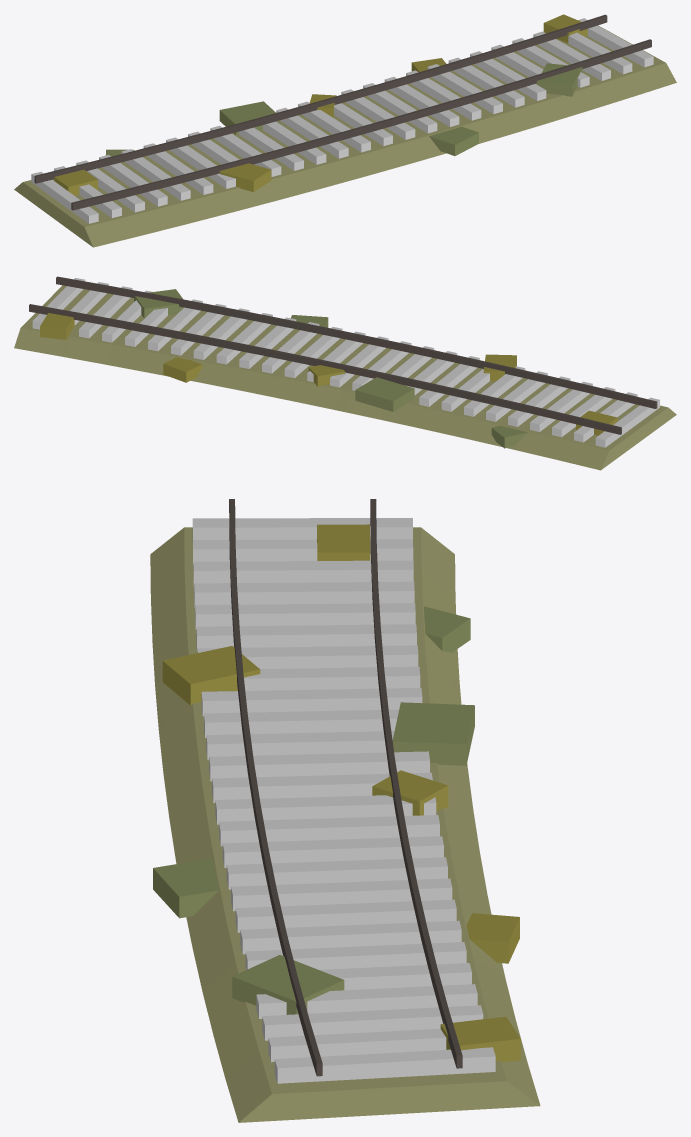
File: SM_Via_CurvaR120_v2_Maleza_LOD0.fbx
The picture shows the model from 3 angles, top to bottom: view 1: azimuth 30°, elevation 25°; view 2: azimuth 150°, elevation 25°; view 3: azimuth 270°, elevation 25°; orthographic projection. The views are drawn at different scales.
Visible parts, largest first — view 1: SM_via_trazado_v17_LOD0; view 2: SM_via_trazado_v17_LOD0; view 3: SM_via_trazado_v17_LOD0.
Boxes of the visible parts, x1,y1,x2,y2 form: SM_via_trazado_v17_LOD0: [14, 14, 676, 247]; SM_via_trazado_v17_LOD0: [14, 276, 676, 470]; SM_via_trazado_v17_LOD0: [150, 499, 540, 1122].
Size of the model in its own units: 15.9 by 0.72 by 4.61.
